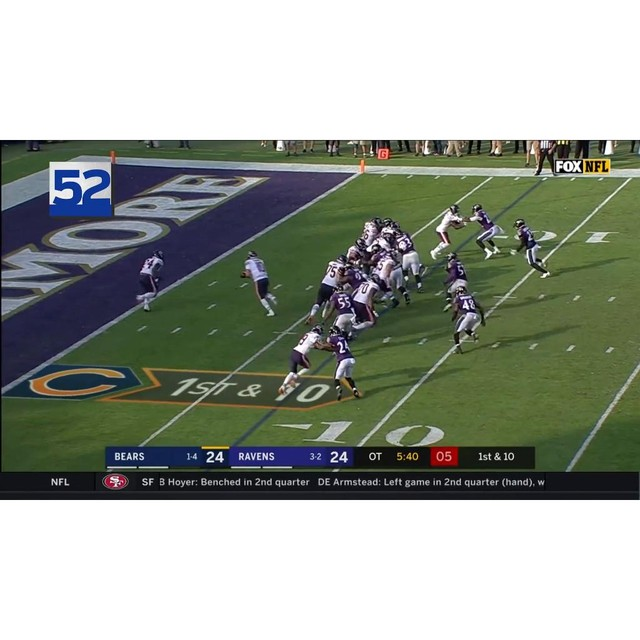american-football-player: (279, 323, 330, 396), (318, 327, 363, 401), (305, 254, 348, 326), (240, 250, 278, 316), (513, 218, 552, 279), (448, 286, 484, 352), (429, 203, 466, 261), (466, 203, 502, 260), (394, 229, 426, 292), (378, 248, 411, 307), (324, 282, 358, 338), (135, 249, 165, 312), (351, 274, 382, 332), (442, 252, 469, 311), (346, 237, 368, 270)
referee: (533, 141, 558, 177)
